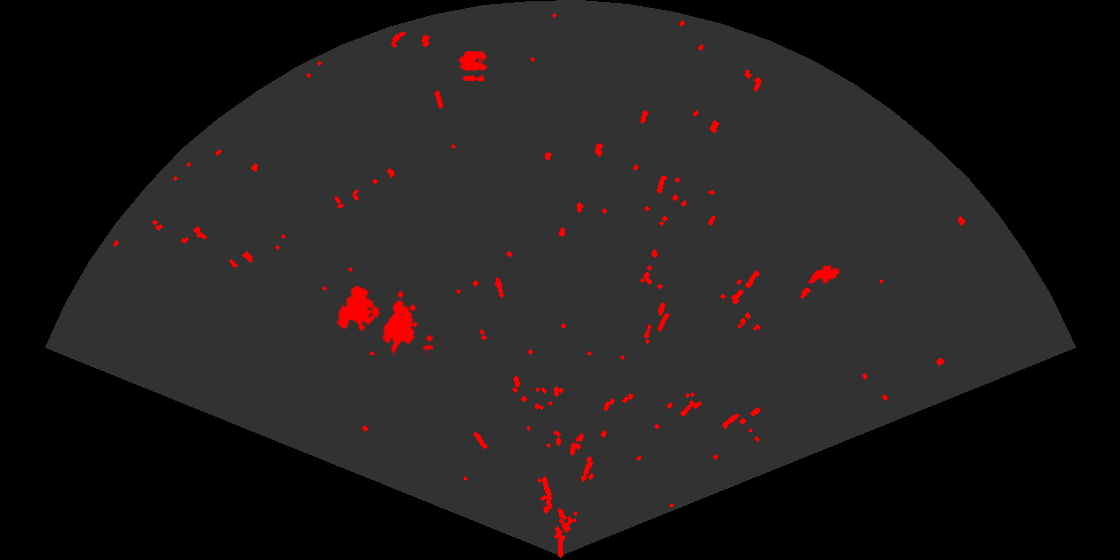AUV: (807, 263, 842, 286)
ball: (457, 49, 489, 83)
cage: (335, 284, 433, 355)
